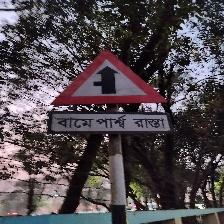Side-road-left: (48, 49, 173, 135)
